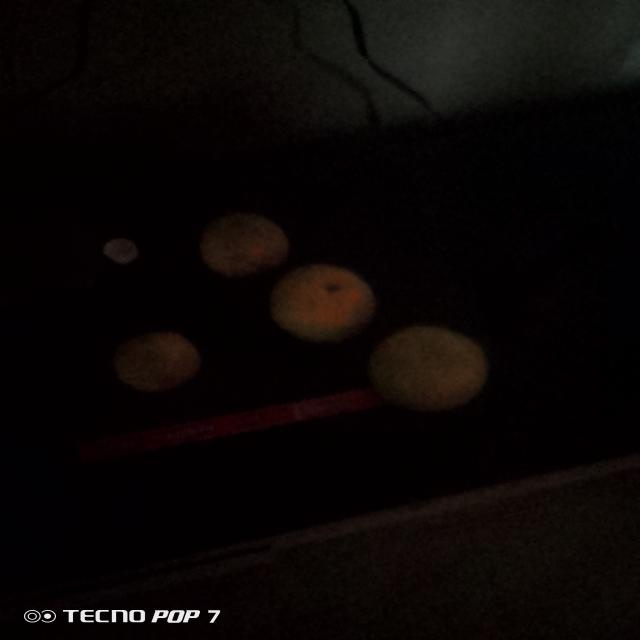agrume: (356, 321, 492, 406), (269, 257, 392, 337), (191, 220, 293, 280), (110, 337, 193, 390)
